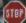Stop sign: (0, 0, 25, 22)
